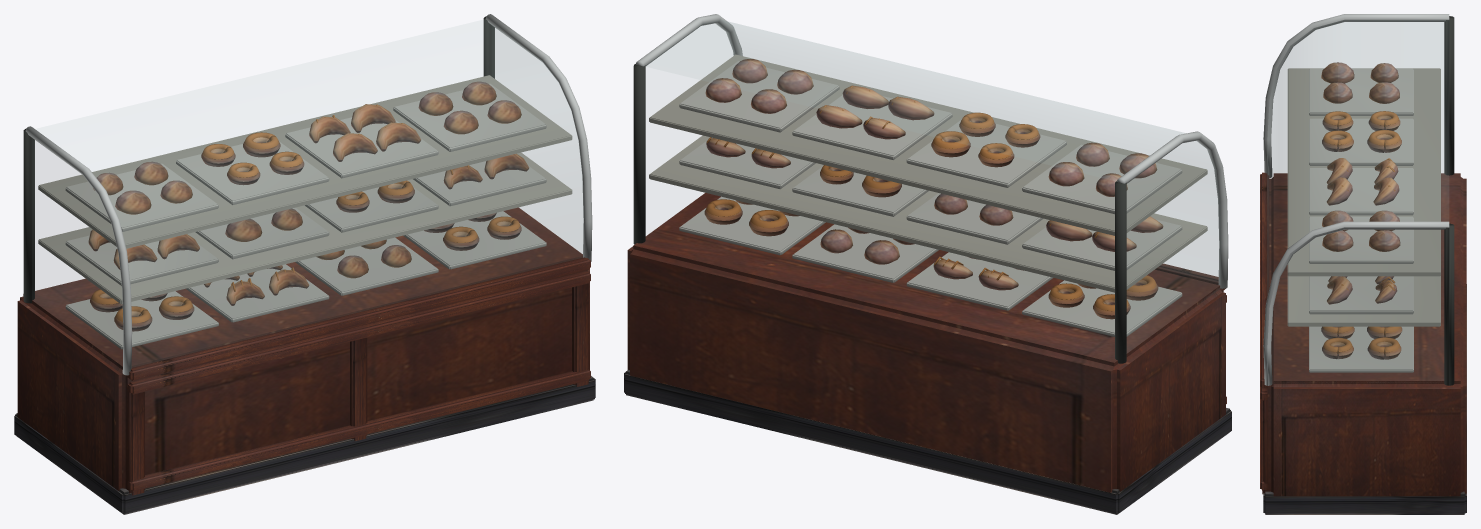
Rendered from patisserie-case.glb.
3 views of the same model, side by side, from view 1: azimuth 30°, elevation 25°; view 2: azimuth 150°, elevation 25°; view 3: azimuth 270°, elevation 25° (orthographic). The views are drawn at different scales.
Visible parts, largest first — view 1: Frame; view 2: Frame; view 3: Frame.
Boxes of the visible parts, x1,y1,x2,y2 form: Frame: (14, 14, 595, 514); Frame: (624, 14, 1231, 514); Frame: (1260, 14, 1466, 514).
Bounding box in the file's own units: 2.11 × 1.34 × 0.8635.
Materials: 9 (3 with a texture image).
